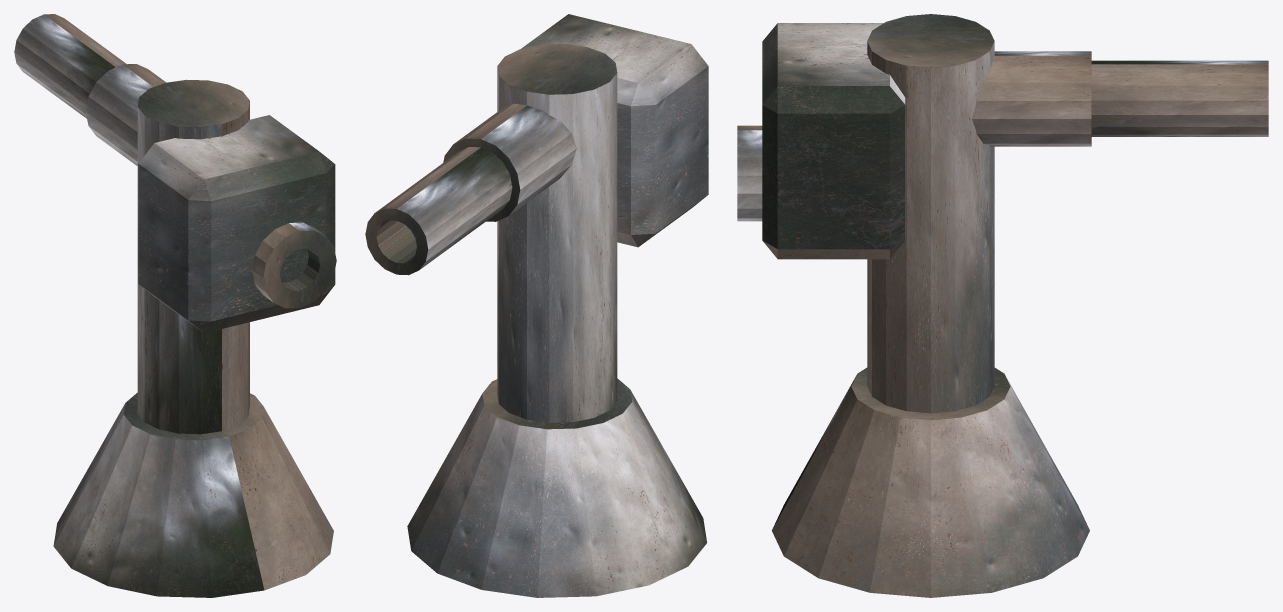
Rendered from ResourceHarvesterFractured.fbx.
3 views of the same model, side by side, from view 1: azimuth 30°, elevation 25°; view 2: azimuth 150°, elevation 25°; view 3: azimuth 270°, elevation 25° (orthographic). The views are drawn at different scales.
Visible parts, largest first — view 1: ResourceHarvesterMesh, ResourceHarvesterMesh.001; view 2: ResourceHarvesterMesh, ResourceHarvesterMesh.001; view 3: ResourceHarvesterMesh, ResourceHarvesterMesh.001.
Part boxes in pixels (x1,y1,x2,y2): ResourceHarvesterMesh: (14, 14, 336, 434); ResourceHarvesterMesh.001: (53, 392, 333, 597); ResourceHarvesterMesh: (365, 14, 708, 422); ResourceHarvesterMesh.001: (407, 378, 706, 597); ResourceHarvesterMesh: (737, 14, 1268, 413); ResourceHarvesterMesh.001: (772, 367, 1089, 597).
Size of the model in its own units: 2 by 3.34 by 3.4.
